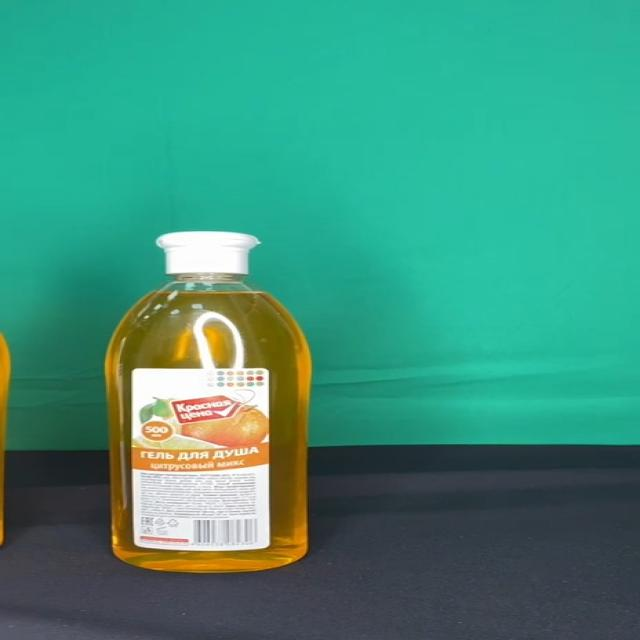Bottle: (104, 230, 312, 572)
Cap: (157, 231, 260, 274)
